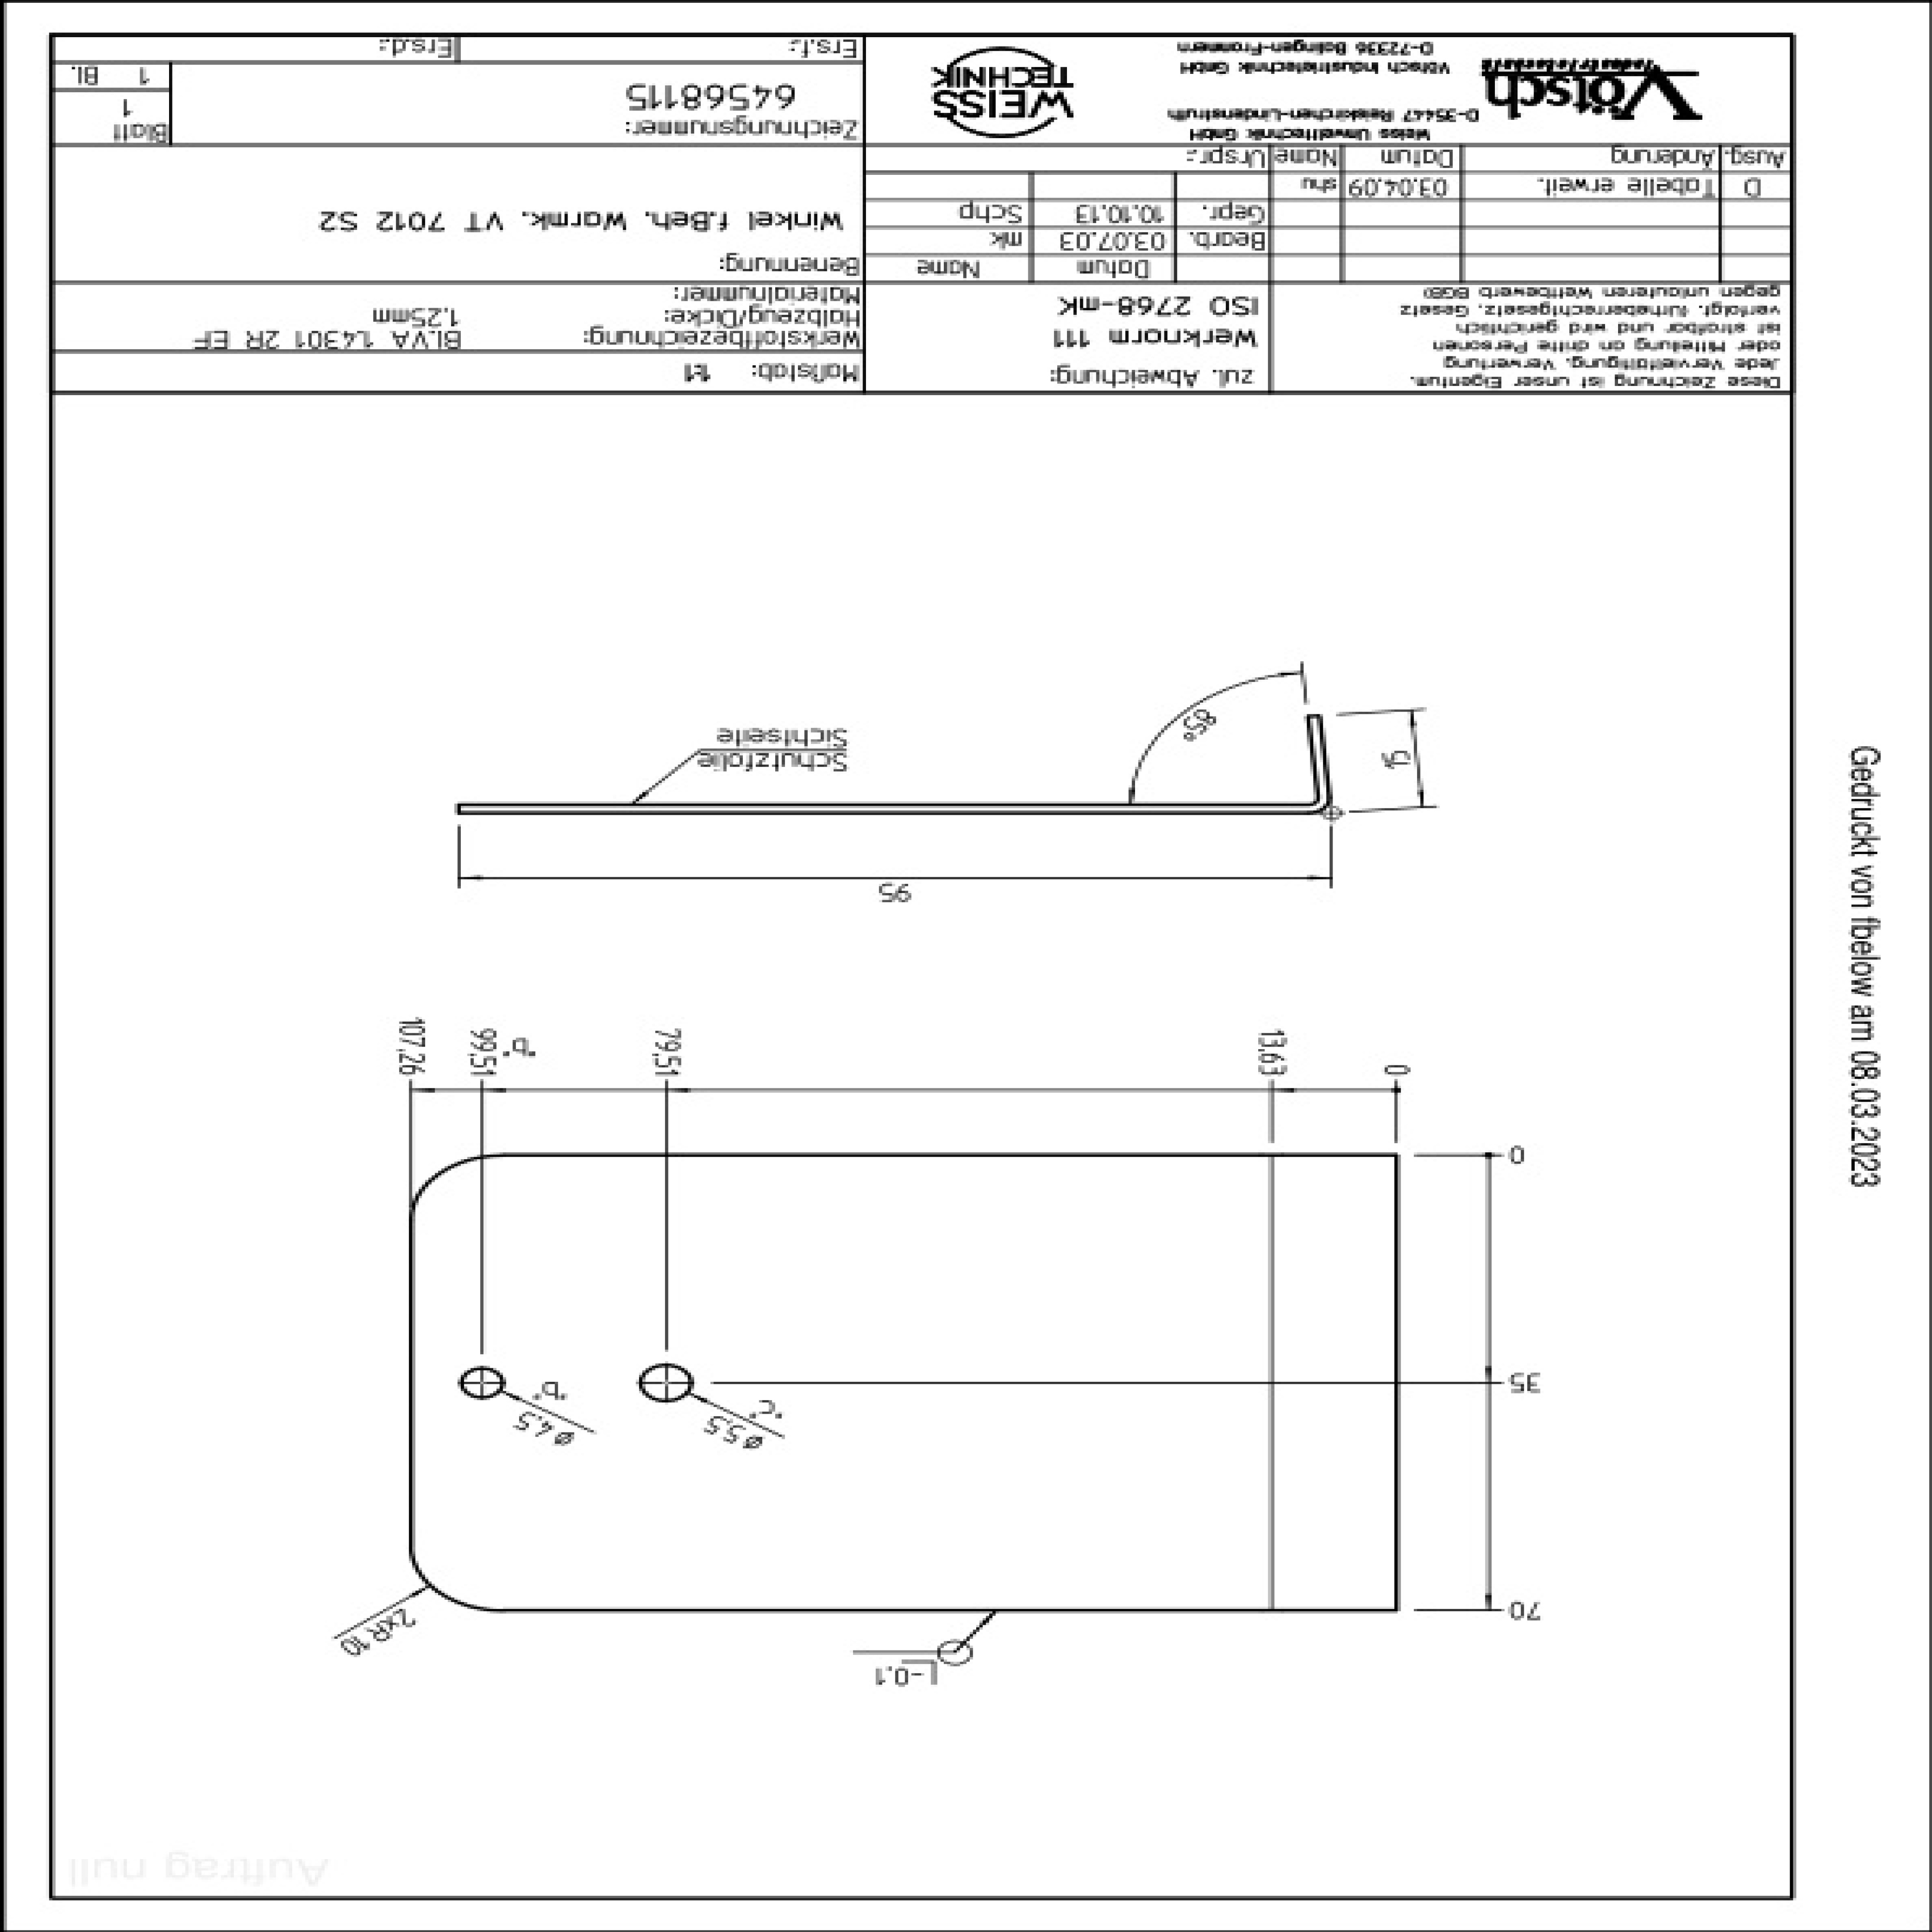InnerContour: (637, 1364, 695, 1405), (456, 1366, 506, 1401)
